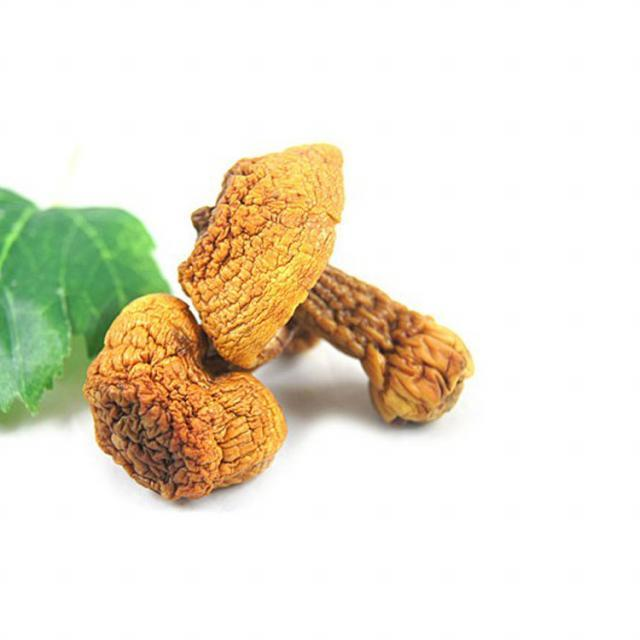Agaricus blazei Murill: (187, 144, 469, 432), (86, 285, 308, 507)
